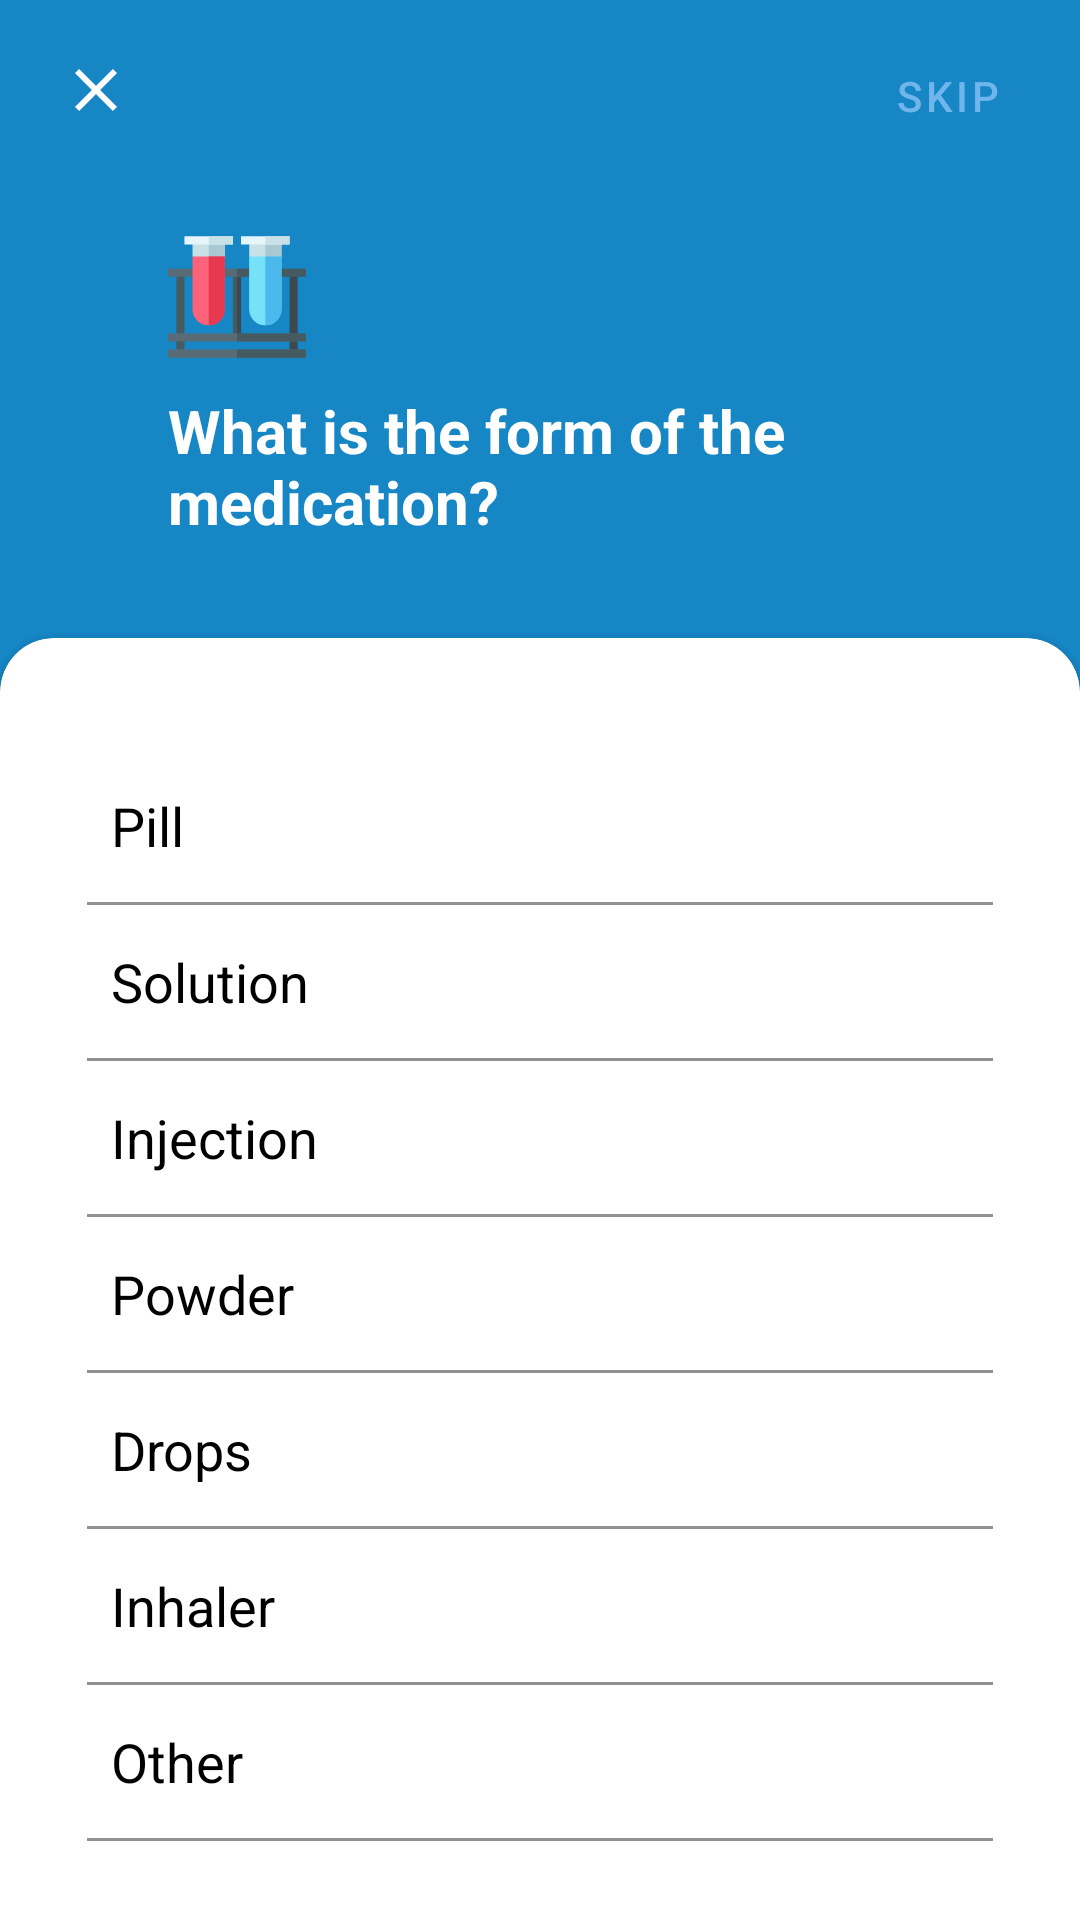

Point at icon controls on the screen. Image size 1080px×1920px, points as (x=x, y=y).
Close: (x=96, y=90)
